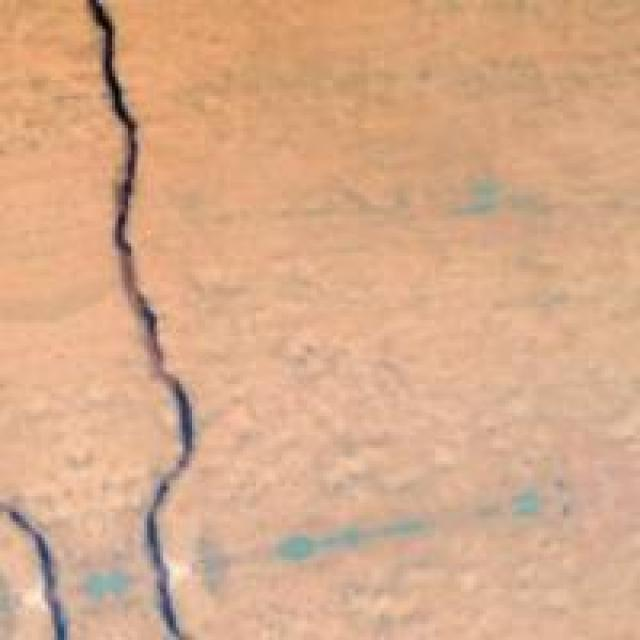crack: (0, 0, 202, 637)
